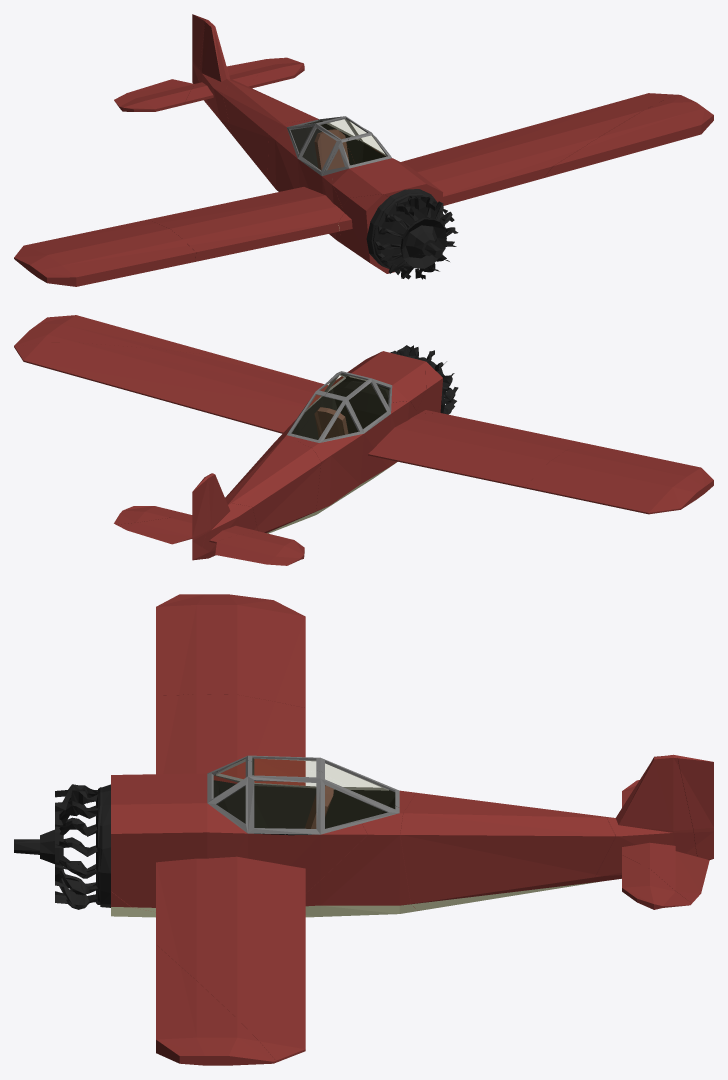
The model's file is Aircraft_3_exploded.glb.
3 views of the same model, one above another, from view 1: azimuth 30°, elevation 25°; view 2: azimuth 150°, elevation 25°; view 3: azimuth 270°, elevation 25° (orthographic). The views are drawn at different scales.
Visible parts, largest first — view 1: tripo_node_68e8f659.006_cell.002, tripo_node_68e8f659_cell.001, tripo_node_68e8f659.005_cell, tripo_node_68e8f659.005_cell.002, tripo_node_68e8f659.003, tripo_node_68e8f659_cell.003, tripo_node_68e8f659_cell.002, tripo_node_68e8f659.001_cell, tripo_node_68e8f659.001_cell.001; view 2: tripo_node_68e8f659.006_cell.002, tripo_node_68e8f659_cell.001, tripo_node_68e8f659.005_cell, tripo_node_68e8f659.005_cell.002, tripo_node_68e8f659_cell.003, tripo_node_68e8f659_cell.002, tripo_node_68e8f659.001_cell, tripo_node_68e8f659.003, tripo_node_68e8f659.001_cell.001; view 3: tripo_node_68e8f659_cell.001, tripo_node_68e8f659.006_cell.002, tripo_node_68e8f659_cell.003, tripo_node_68e8f659.005_cell.002, tripo_node_68e8f659_cell.002, tripo_node_68e8f659.005_cell, tripo_node_68e8f659.003, tripo_node_68e8f659.001_cell.001, tripo_node_68e8f659.001_cell.
Boxes of the visible parts, x1,y1,x2,y2 form: tripo_node_68e8f659.006_cell.002: (401,93,713,205); tripo_node_68e8f659_cell.001: (114,14,317,178); tripo_node_68e8f659.005_cell: (148,187,352,261); tripo_node_68e8f659.005_cell.002: (14,219,195,286); tripo_node_68e8f659.003: (366,189,458,279); tripo_node_68e8f659_cell.003: (332,132,442,273); tripo_node_68e8f659_cell.002: (267,118,355,242); tripo_node_68e8f659.001_cell: (287,118,349,175); tripo_node_68e8f659.001_cell.001: (312,116,391,168); tripo_node_68e8f659.006_cell.002: (14,315,327,433); tripo_node_68e8f659_cell.001: (114,436,321,565); tripo_node_68e8f659.005_cell: (368,410,580,488); tripo_node_68e8f659.005_cell.002: (525,442,713,514); tripo_node_68e8f659_cell.003: (284,351,442,439); tripo_node_68e8f659_cell.002: (275,401,416,518); tripo_node_68e8f659.001_cell: (295,376,392,442); tripo_node_68e8f659.003: (390,345,458,414); tripo_node_68e8f659.001_cell.001: (287,371,366,436); tripo_node_68e8f659_cell.001: (400,754,713,910); tripo_node_68e8f659.006_cell.002: (156,856,305,1065); tripo_node_68e8f659_cell.003: (111,773,367,917); tripo_node_68e8f659.005_cell.002: (156,594,305,707); tripo_node_68e8f659_cell.002: (213,779,417,917); tripo_node_68e8f659.005_cell: (156,694,305,785); tripo_node_68e8f659.003: (14,784,110,909); tripo_node_68e8f659.001_cell.001: (207,761,399,834); tripo_node_68e8f659.001_cell: (208,755,399,807).
Bounding box in the file's own units: 11.98 × 1.86 × 7.67.
